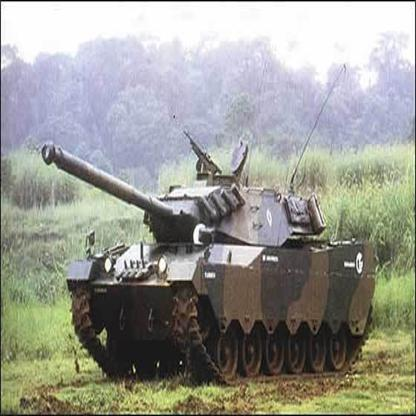Tank: (34, 137, 379, 379)
